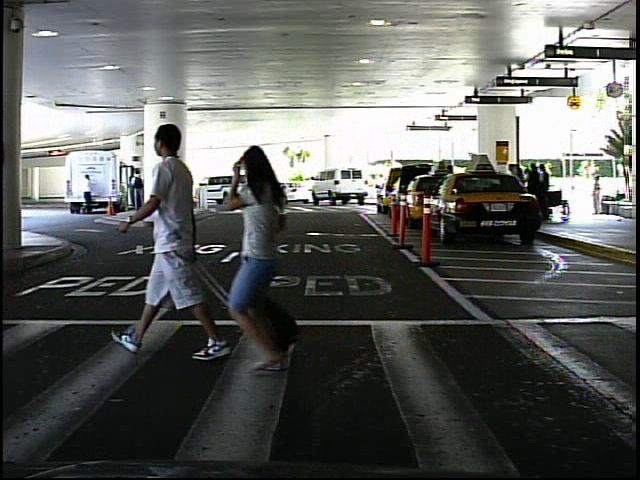person: (128, 102, 226, 365), (230, 133, 328, 379), (78, 171, 97, 221), (588, 172, 607, 218)
